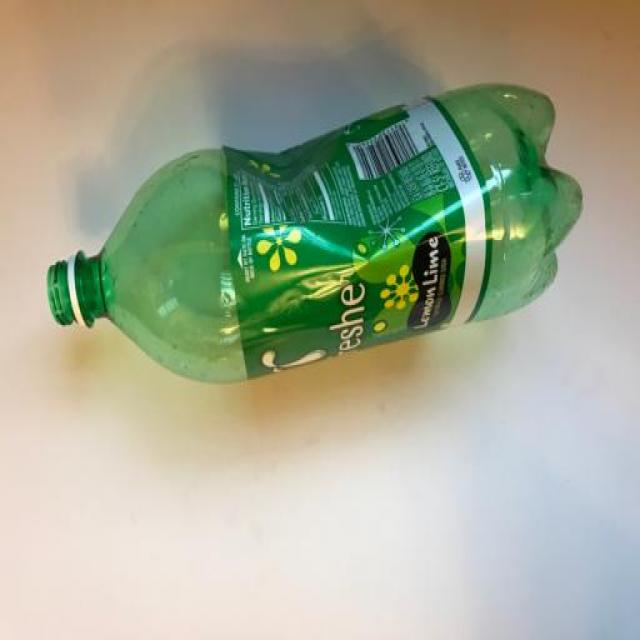plastic: (32, 69, 630, 423)
